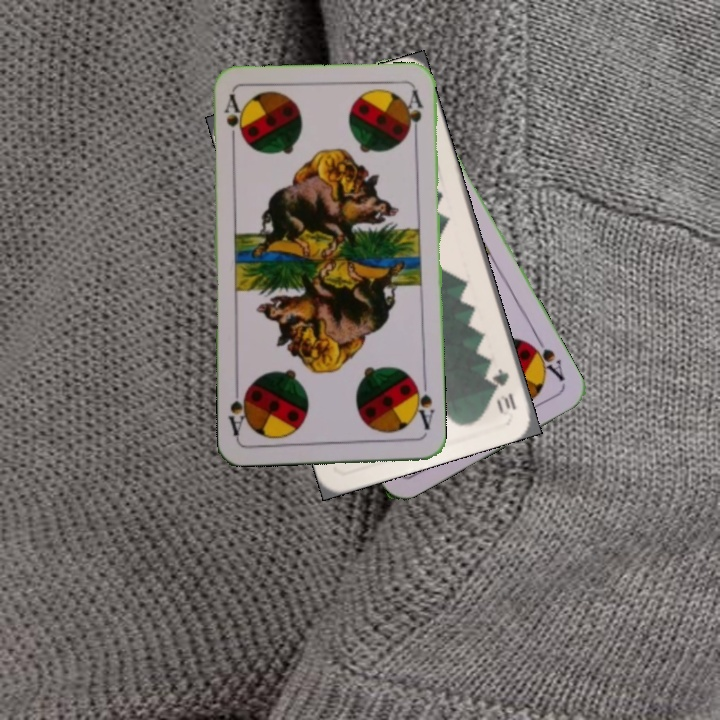G10: (488, 364, 519, 415)
SA: (523, 332, 568, 384), (409, 377, 437, 436), (219, 90, 246, 149)
